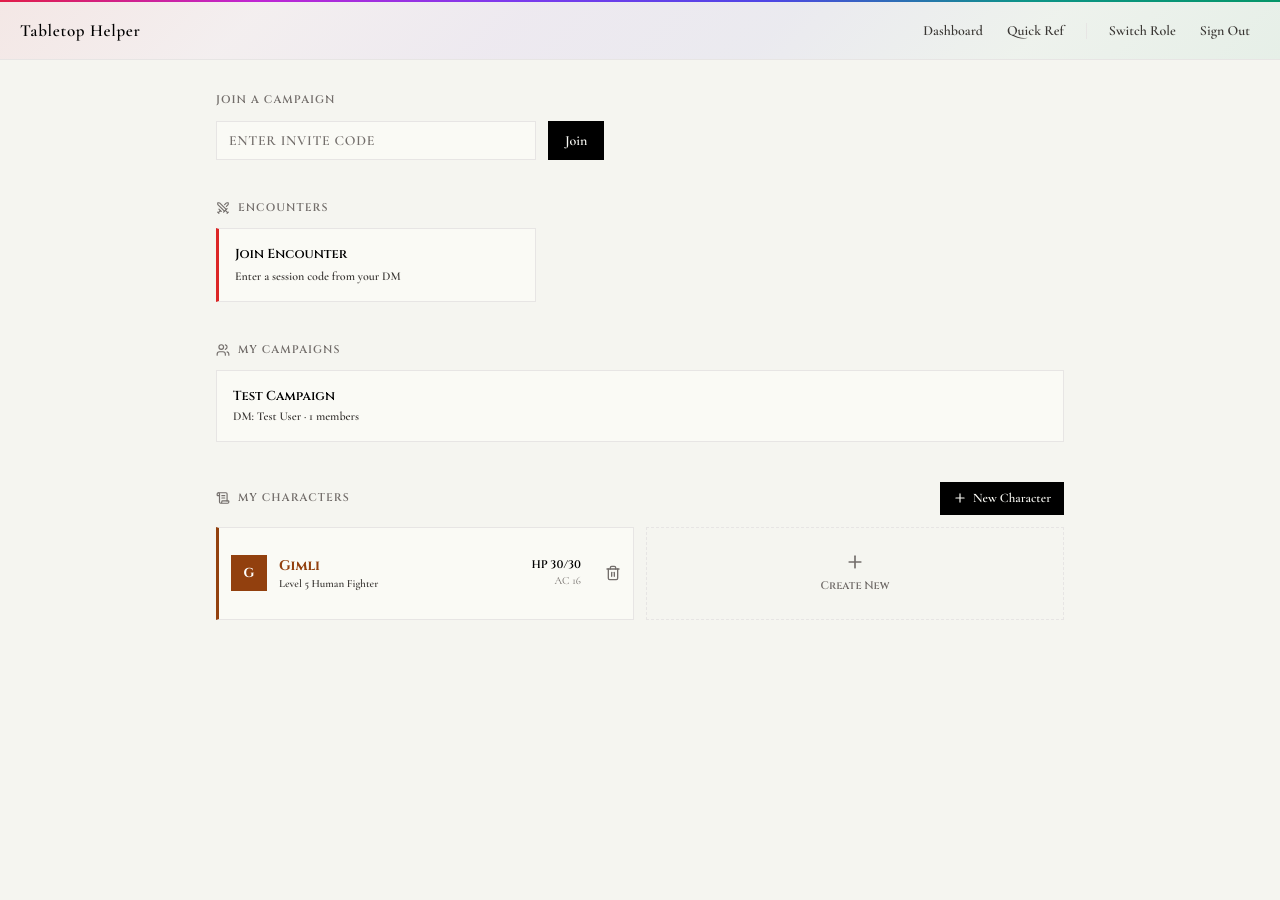
PlayerDashboard › disables Delete button until correct name is typed
This screenshot has width=1280, height=900.
Expected: the heading "Gimli" is shown, [279,556,320,574]
Click the button titled "Delete character".
click(613, 573)  # box [593,528,633,618]
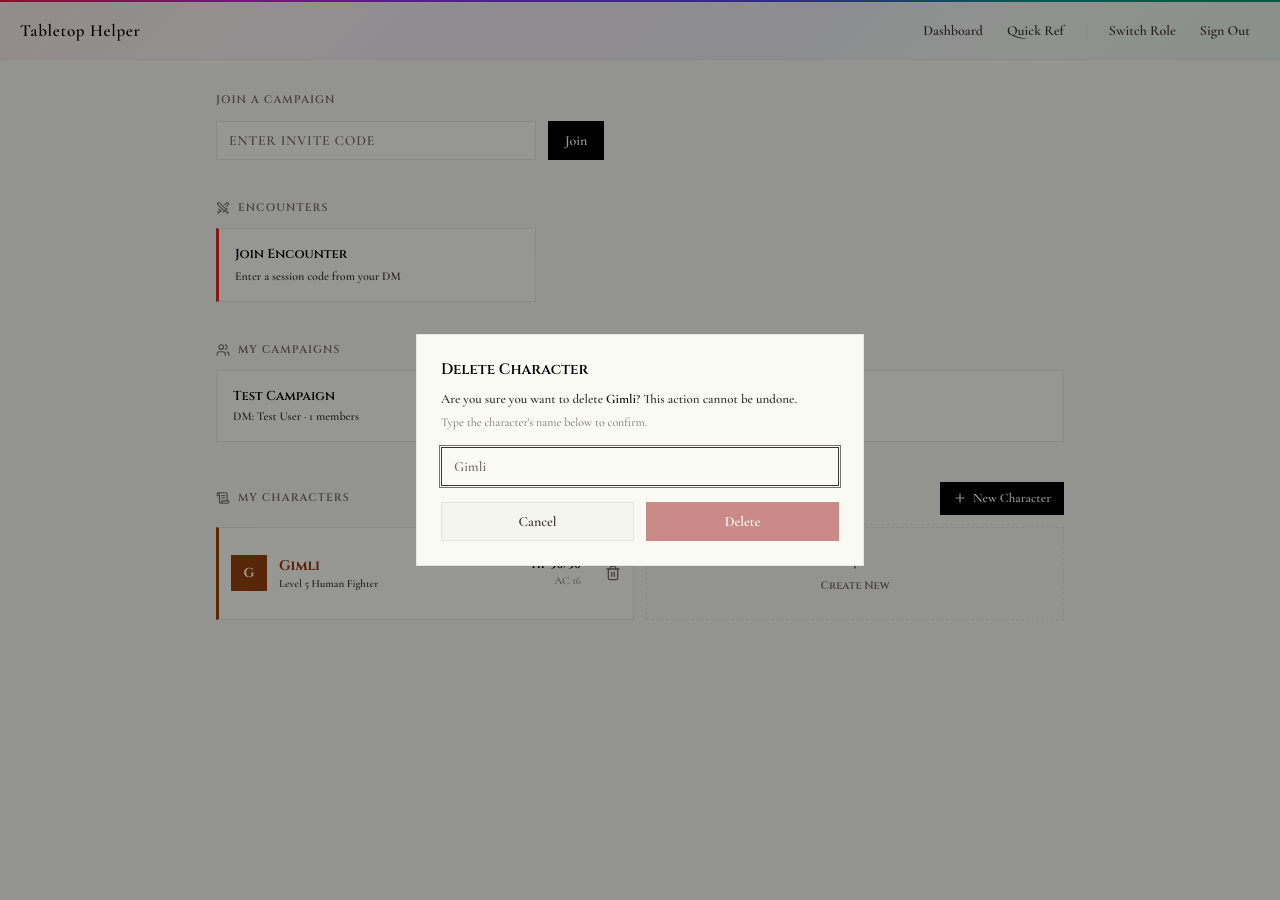
Now the button "Delete" is disabled, box [646,502,839,541]
Type "WrongName" into the field with placeholder "Gimli".
click(640, 466); type("WrongName")  # box [441,447,839,486]
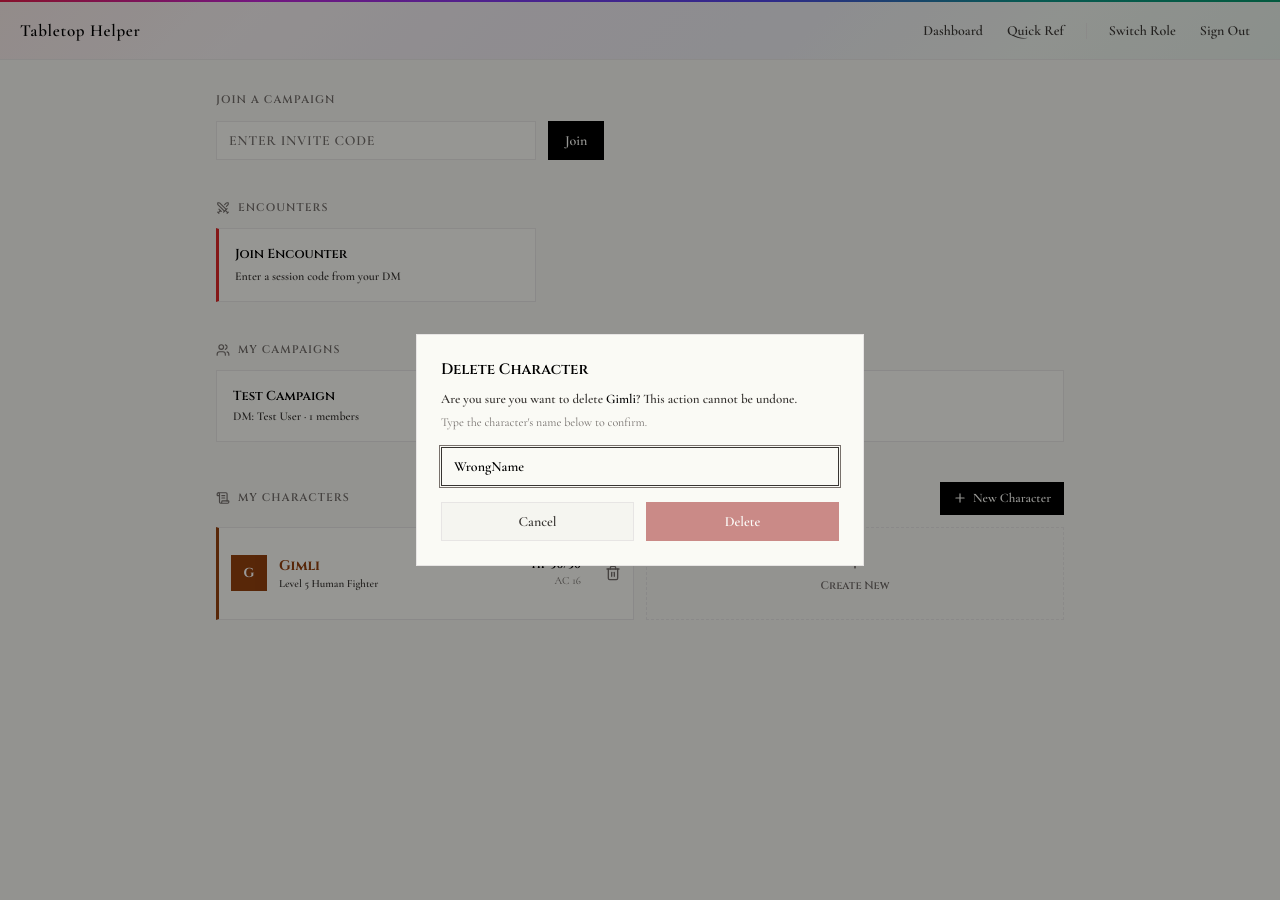
Now the button "Delete" is disabled, box [646,502,839,541]
Replace the text in the field with placeholder "Gimli" with "Gimli" at (640, 466), box [441,447,839,486]
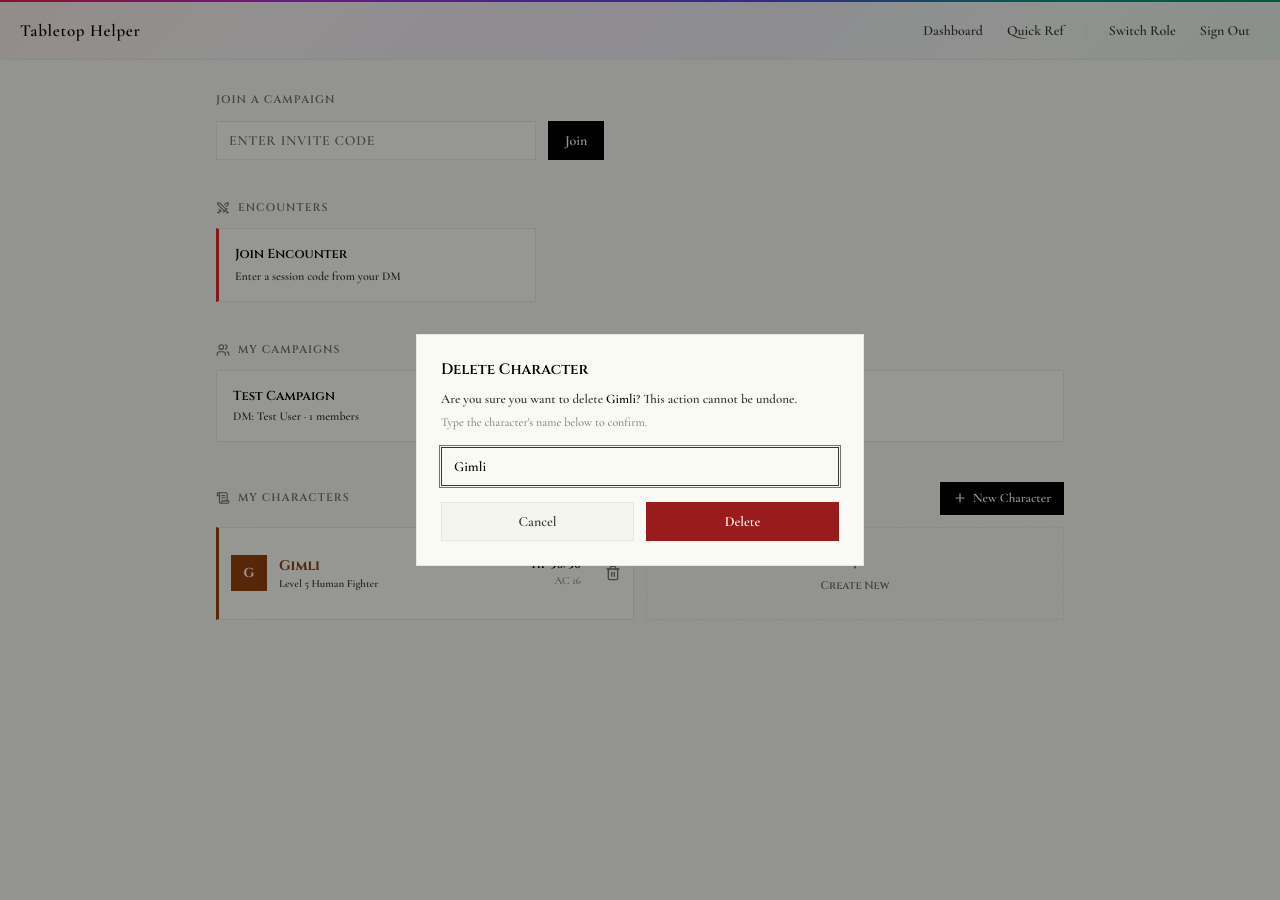
Now the button "Delete" is enabled, box [646,502,839,541]
